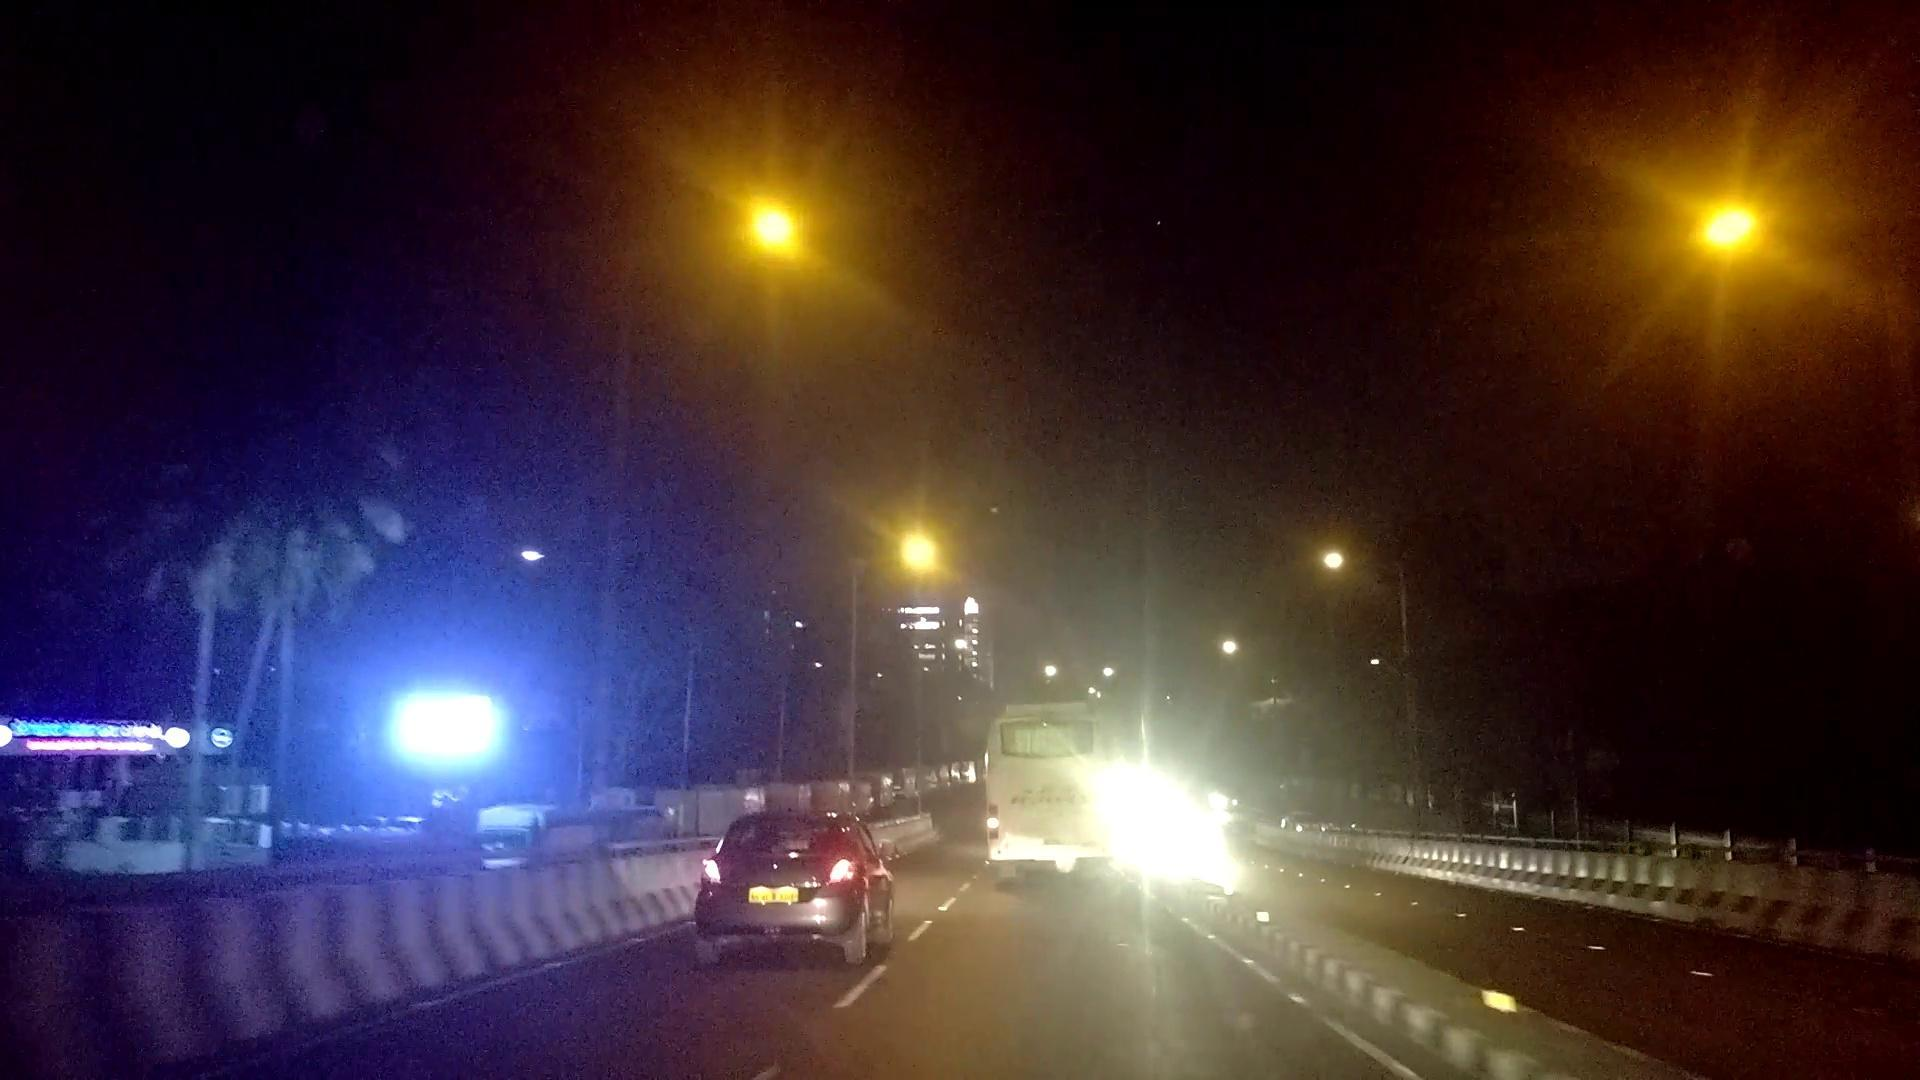on: (1540, 22, 1920, 386), (800, 433, 1110, 699), (659, 73, 911, 371)
